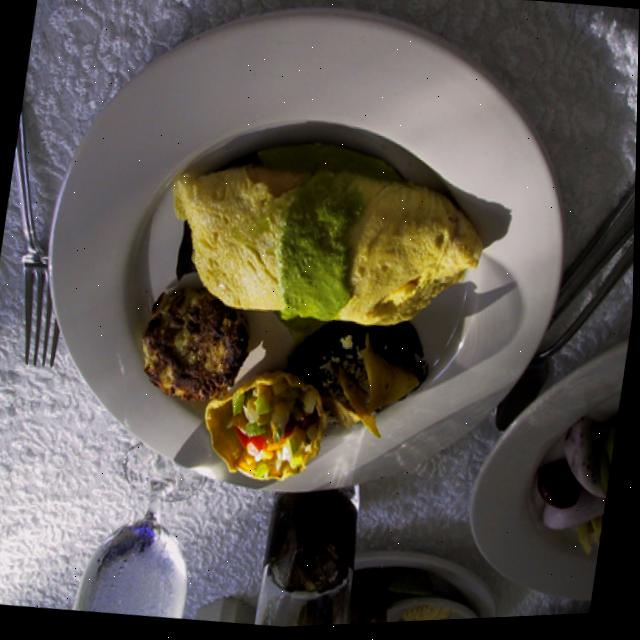鸡蛋料理: (148, 114, 497, 357)
